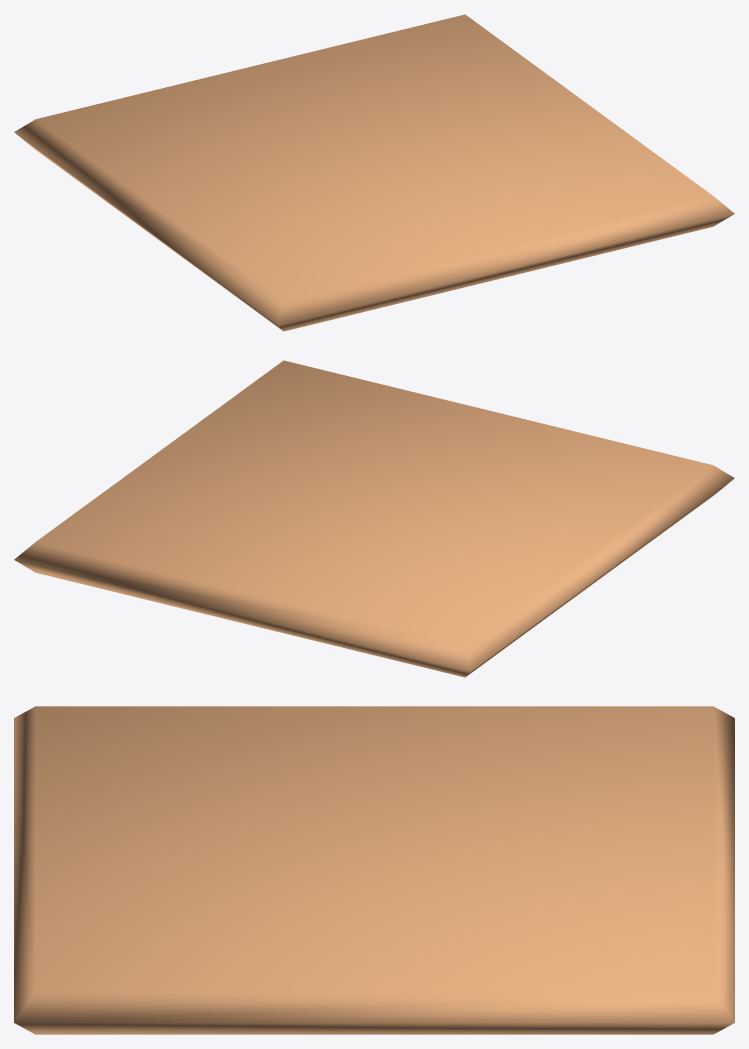
File: piadina_integrale_mid.fbx
The picture shows the model from 3 angles, top to bottom: view 1: azimuth 30°, elevation 25°; view 2: azimuth 150°, elevation 25°; view 3: azimuth 270°, elevation 25°; orthographic projection. The views are drawn at different scales.
Visible parts, largest first — view 1: integralemid; view 2: integralemid; view 3: integralemid.
Part boxes in pixels (bbox=[...]): integralemid: bbox=[14, 14, 734, 331]; integralemid: bbox=[14, 360, 734, 677]; integralemid: bbox=[14, 706, 734, 1034].
Size of the model in its own units: 213 by 13.7 by 213.
